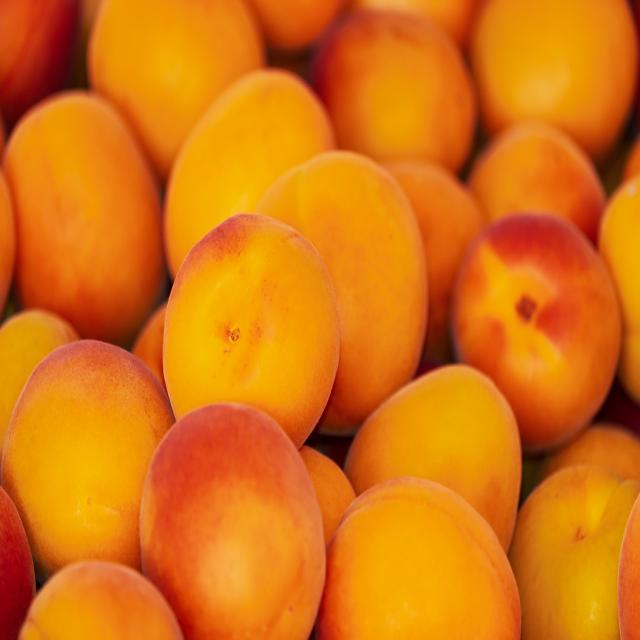kayisi: (278, 180, 461, 396), (186, 227, 336, 430), (499, 228, 639, 424), (178, 440, 315, 640), (2, 101, 142, 281), (23, 356, 154, 534), (359, 480, 498, 640), (349, 18, 498, 155), (509, 35, 640, 180), (96, 6, 246, 120), (530, 491, 640, 640), (379, 368, 510, 488), (186, 116, 316, 214), (514, 156, 605, 248)
